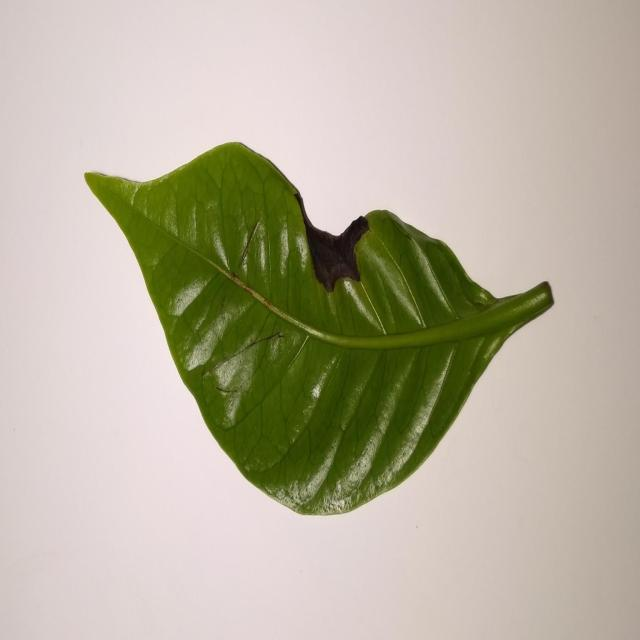Enfermedad-Antracnosis: (83, 142, 555, 520)
